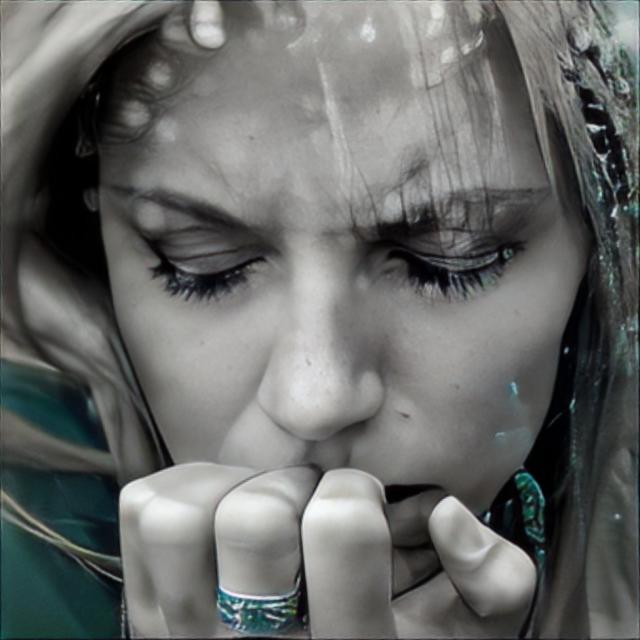sad: (98, 0, 590, 599)
